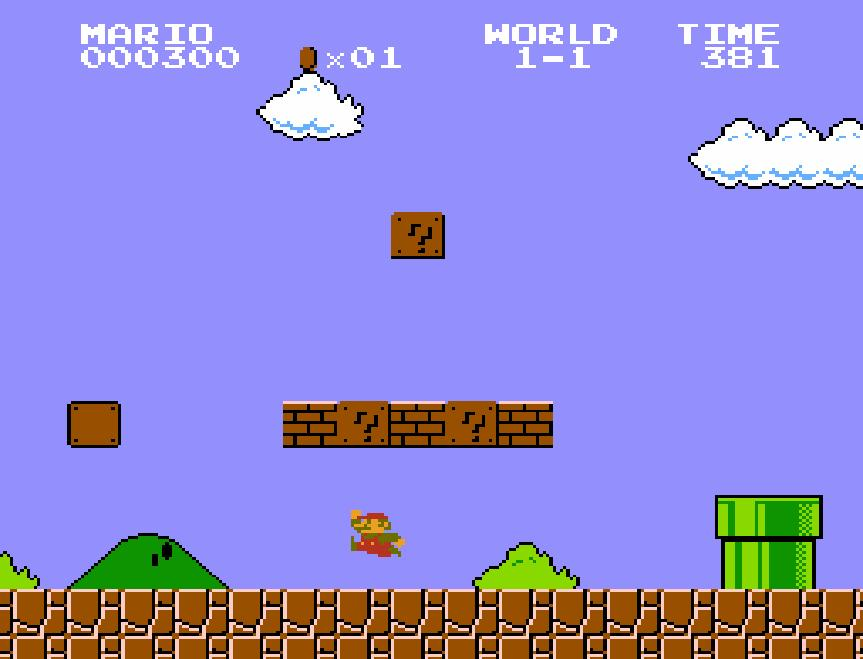little_mario: (348, 508, 406, 558)
